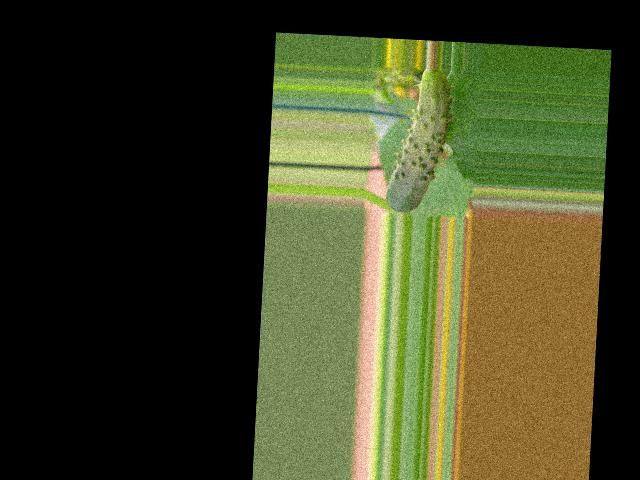cucumber: (385, 67, 454, 215)
